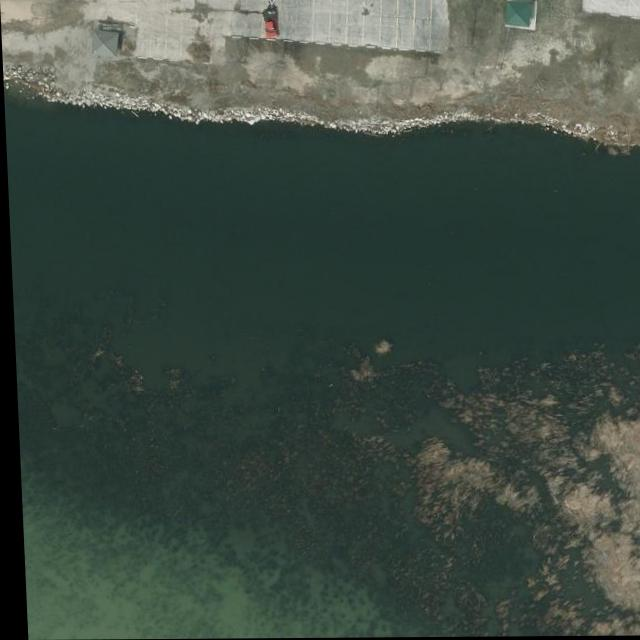vehicle: (264, 8, 280, 39)
